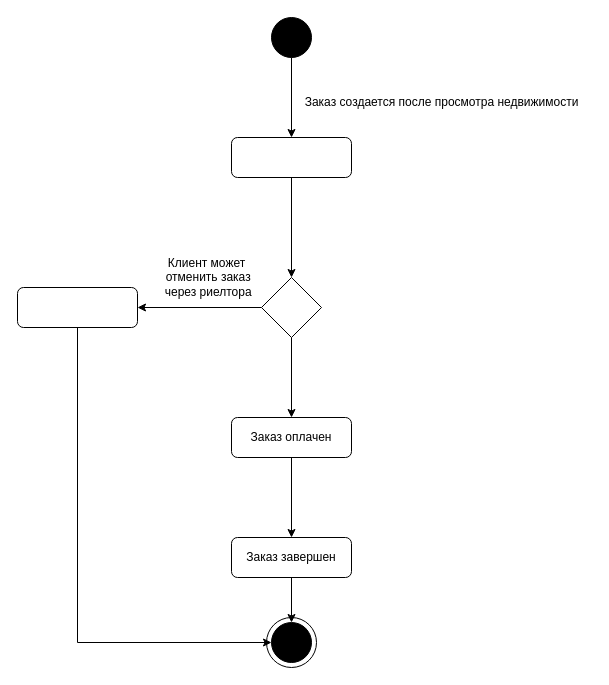
Image size: 609x685. Some labels were removed from this diagram. The centre of each missing label's shape, as x and y in pixels:
Заказ отменен: (77,307)
Заказ создан: (291,157)
